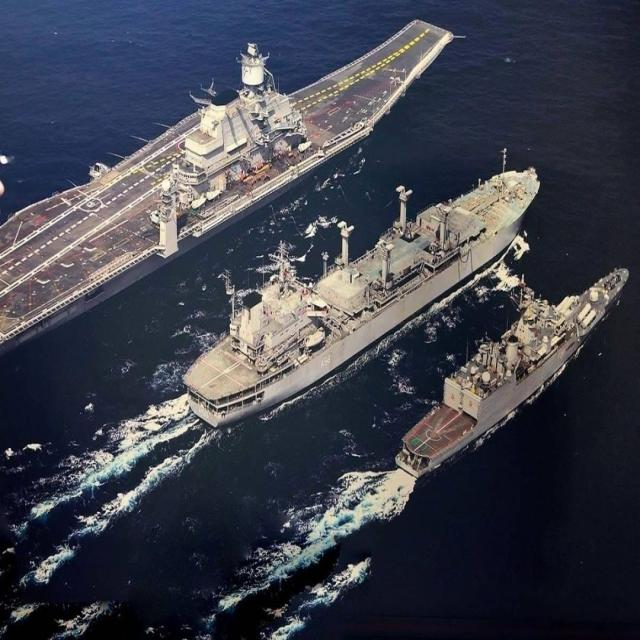Aircraft-Carrier-Kiev Class-IND: (0, 13, 454, 342)
Tanker-Komandarm_Fedko_Class-IND: (183, 149, 540, 420)
